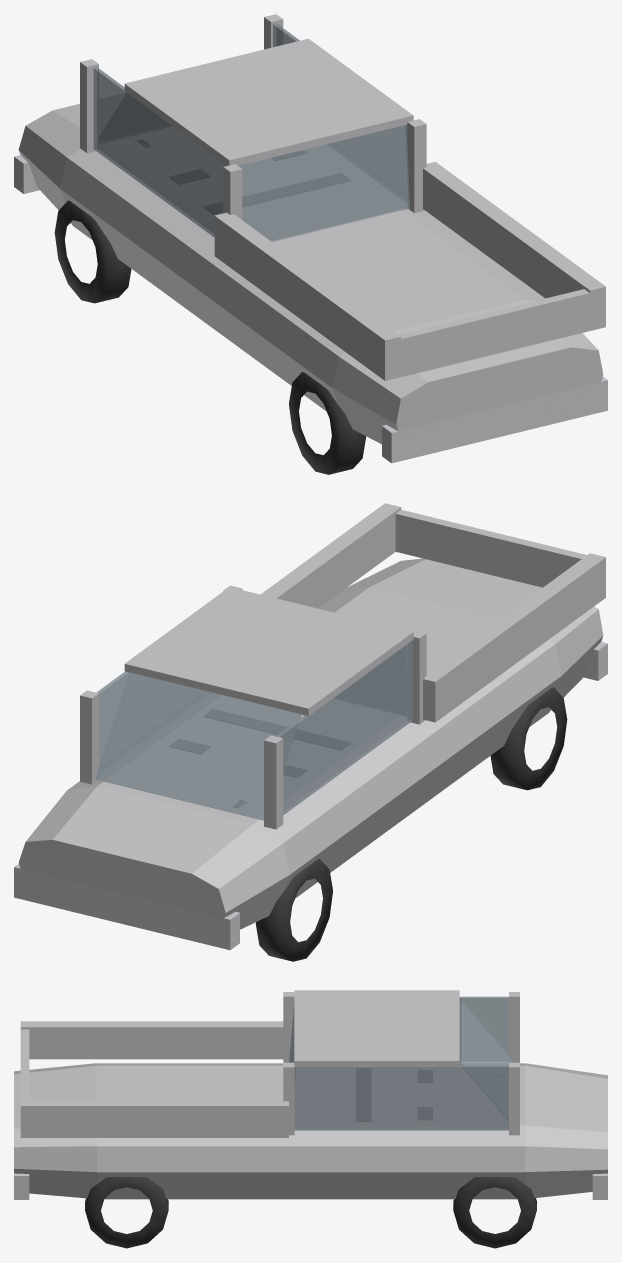
Rendered from pickup.glb.
The picture shows the model from 3 angles, top to bottom: view 1: azimuth 30°, elevation 25°; view 2: azimuth 150°, elevation 25°; view 3: azimuth 270°, elevation 25°; orthographic projection. The views are drawn at different scales.
Parts seen in each view (by area): view 1: body, glass, body_trim, wheels, seats; view 2: body, glass, body_trim, wheels, seats; view 3: body, glass, wheels, seats, body_trim.
Part boxes in pixels (x1,y1,x2,y2): body: [18, 14, 605, 456]; glass: [93, 23, 409, 241]; body_trim: [14, 155, 607, 463]; wheels: [54, 200, 365, 474]; seats: [170, 150, 350, 213]; body: [18, 503, 605, 935]; glass: [95, 640, 412, 820]; body_trim: [14, 642, 607, 950]; wheels: [255, 687, 567, 961]; seats: [170, 709, 350, 777]; body: [14, 990, 607, 1199]; glass: [289, 996, 516, 1130]; wheels: [85, 1177, 536, 1248]; seats: [356, 1068, 432, 1121]; body_trim: [14, 1173, 607, 1199].
Bounding box in the file's own units: 1.9 × 1.8 × 5.4.
